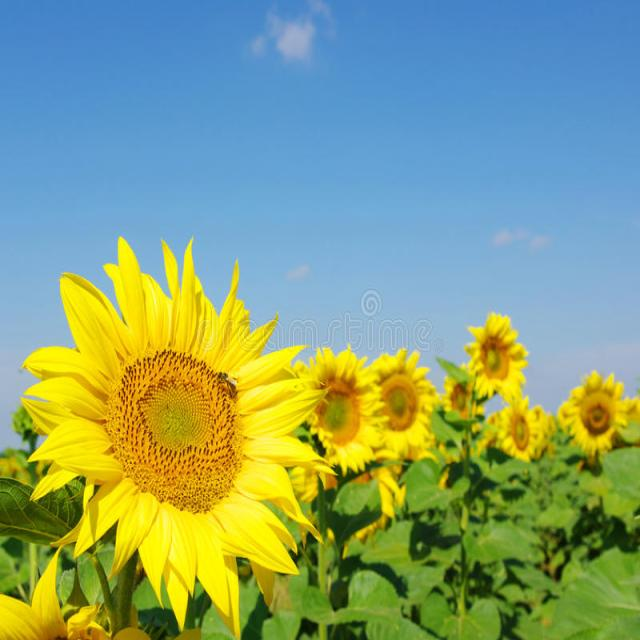sunflower: (13, 236, 329, 638), (282, 331, 380, 490), (361, 340, 438, 489), (462, 307, 532, 409), (556, 364, 626, 457), (493, 392, 549, 463)
